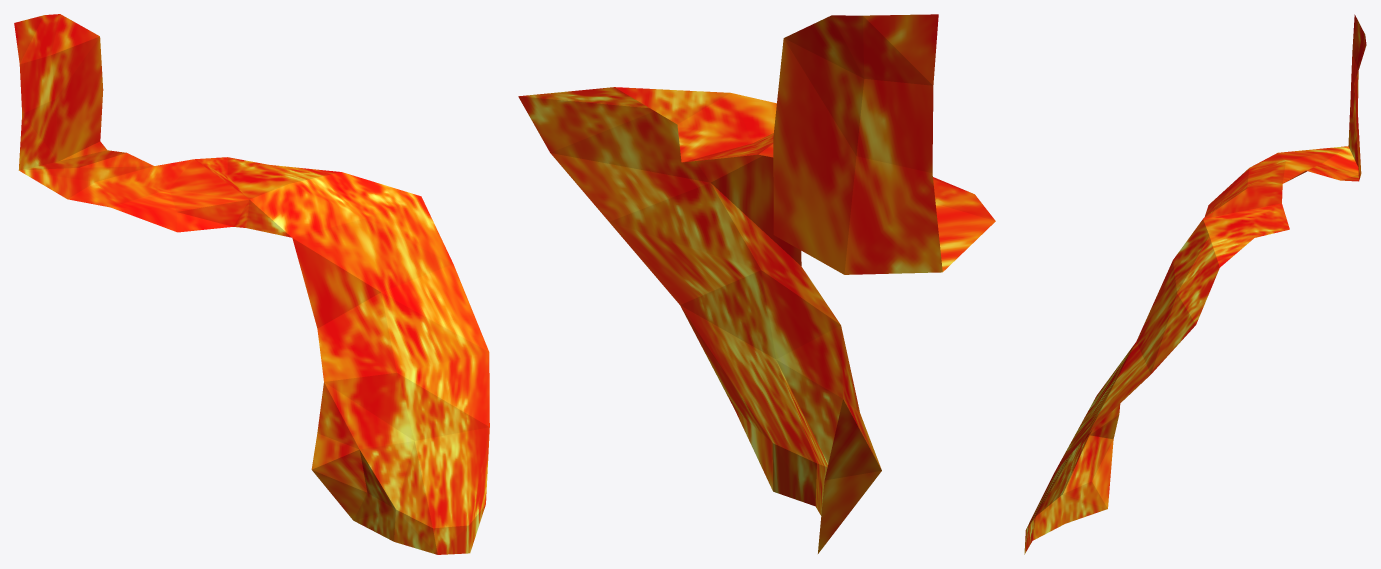
Rendered from yanjiang.FBX.
The picture shows the model from 3 angles, left to right: view 1: azimuth 30°, elevation 25°; view 2: azimuth 150°, elevation 25°; view 3: azimuth 270°, elevation 25°; orthographic projection. The views are drawn at different scales.
Parts seen in each view (by area): view 1: Object001; view 2: Object001; view 3: Object001.
Part boxes in pixels (<box>): Object001: <box>14,14,489,554</box>; Object001: <box>518,14,995,553</box>; Object001: <box>1024,14,1366,554</box>.
Bounding box in the file's own units: 264 × 356 × 263.
1 material, 1 textured.
